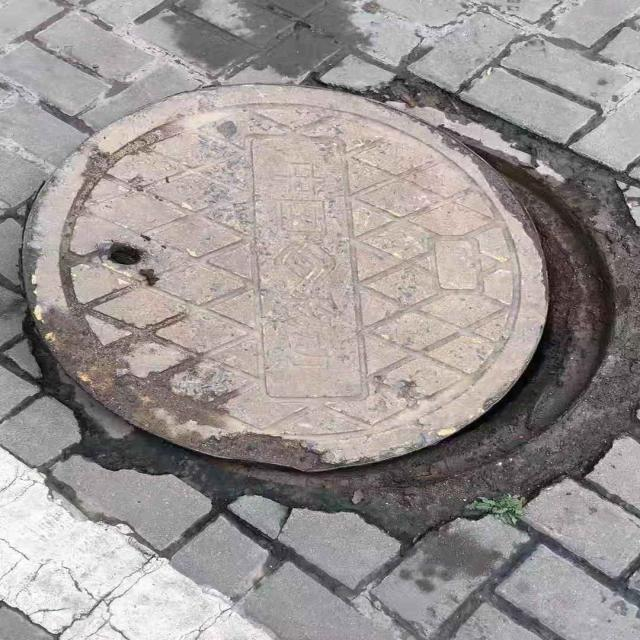Lose: (24, 80, 639, 488)
